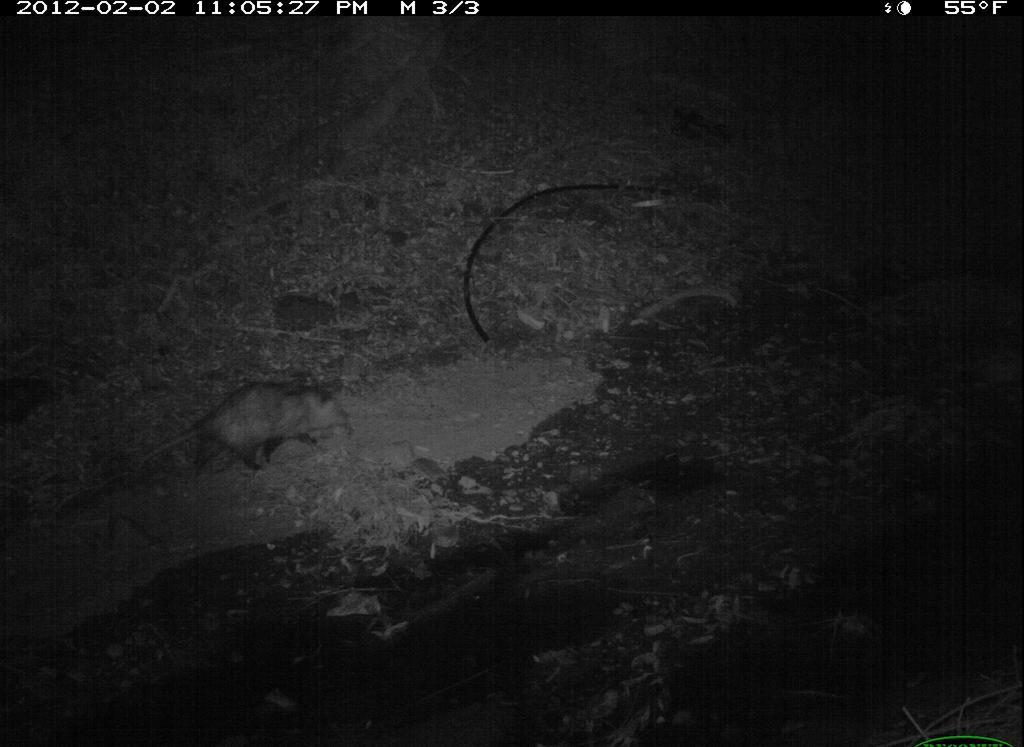opossum: (127, 382, 376, 484)
